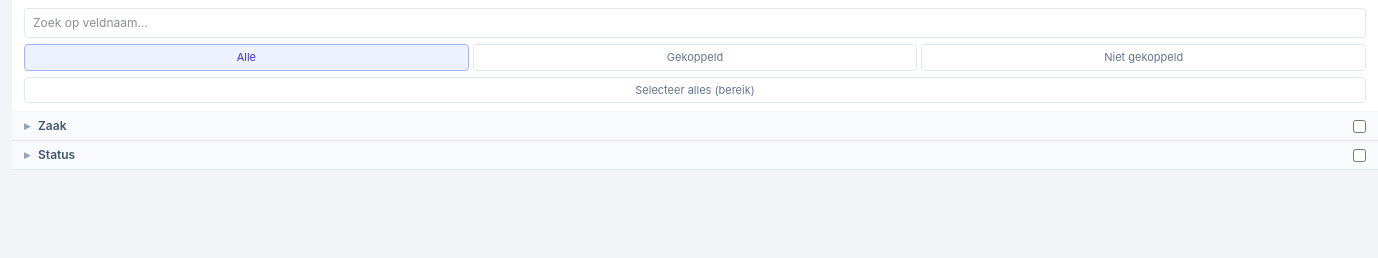
it: SourceSchemaPanel › expands and collapses a schema group on header click
This screenshot has width=1378, height=258.
Click the button with test id "schema-group-toggle-Zaak" at (27, 126), box x1=12 y1=112 x2=1345 y2=140
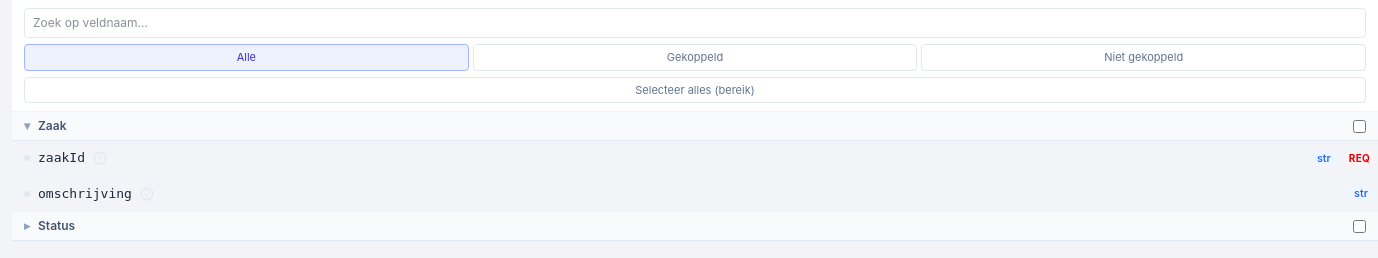
Check: the element with test id "schema-group-fields-Zaak" is shown, box x1=12 y1=141 x2=1377 y2=212
Click the button with test id "schema-group-toggle-Zaak" at (27, 126), box x1=12 y1=112 x2=1345 y2=140
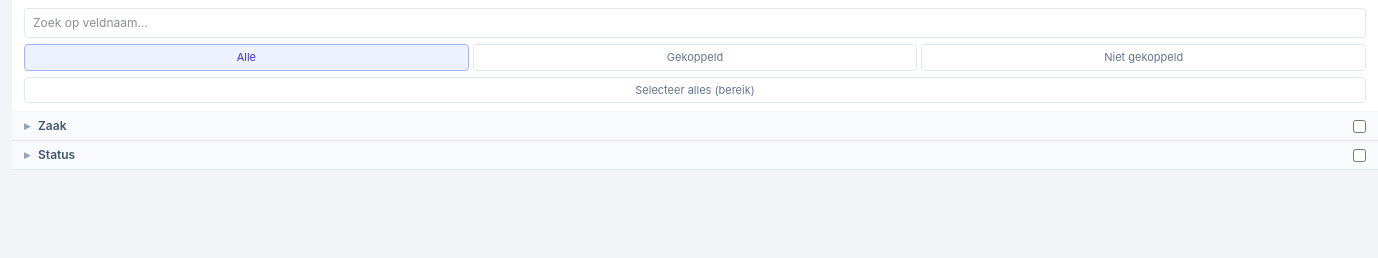
Check: the element with test id "schema-group-fields-Zaak" is gone
